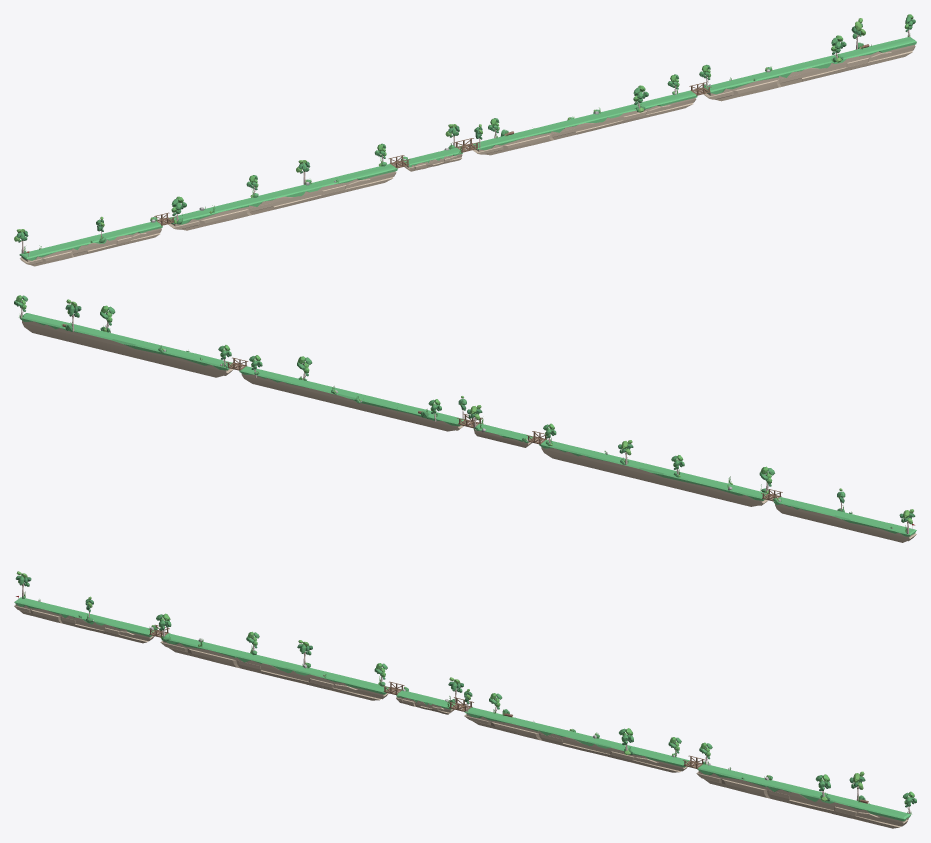
Rendered from Park_Map_lvl_3_LANG.fbx.
The picture shows the model from 3 angles, top to bottom: view 1: azimuth 30°, elevation 25°; view 2: azimuth 150°, elevation 25°; view 3: azimuth 330°, elevation 25°; orthographic projection.
Parts seen in each view (by area): view 1: polySurface3236; view 2: polySurface3236; view 3: polySurface3236.
Boxes of the visible parts, x1,y1,x2,y2 form: polySurface3236: (14,14,916,266); polySurface3236: (14,295,916,542); polySurface3236: (14,571,916,828).
Bounding box in the file's own units: 564 × 25.76 × 14.78.
